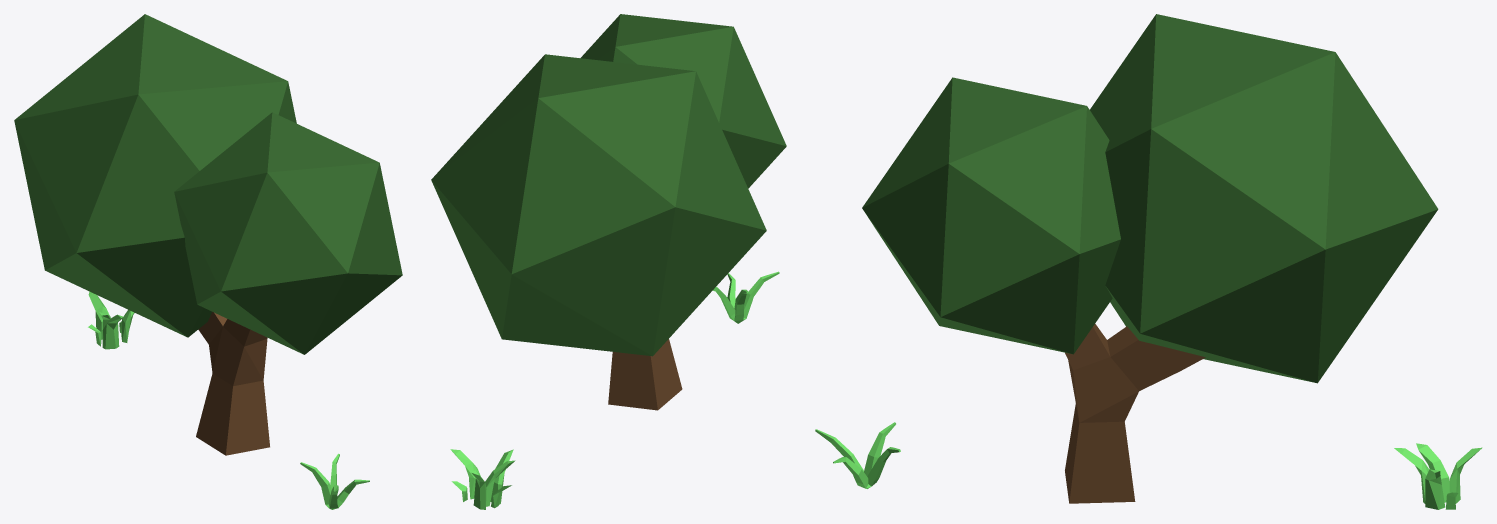
Rendered from pasto.fbx.
3 renders of one model, left to right at view 1: azimuth 30°, elevation 25°; view 2: azimuth 150°, elevation 25°; view 3: azimuth 270°, elevation 25°, orthographic. The views are drawn at different scales.
Parts seen in each view (by area): view 1: Icosphere, Icosphere.001, Cube.001, yuyo 2, Yuyo.1; view 2: Icosphere, Icosphere.001, Cube.001, yuyo 2, Yuyo.1; view 3: Icosphere, Icosphere.001, Cube.001, yuyo 2, Yuyo.1.
Part boxes in pixels (left/top/right/bottom): Icosphere: left=14, top=14, right=296, bottom=337; Icosphere.001: left=174, top=112, right=402, bottom=354; Cube.001: left=196, top=312, right=269, bottom=455; yuyo 2: left=88, top=291, right=134, bottom=349; Yuyo.1: left=300, top=453, right=369, bottom=509; Icosphere: left=431, top=54, right=766, bottom=356; Icosphere.001: left=580, top=14, right=786, bottom=188; Cube.001: left=608, top=339, right=682, bottom=410; yuyo 2: left=450, top=449, right=515, bottom=509; Yuyo.1: left=713, top=271, right=779, bottom=323; Icosphere: left=1090, top=14, right=1438, bottom=383; Icosphere.001: left=862, top=77, right=1120, bottom=354; Cube.001: left=1065, top=324, right=1205, bottom=503; yuyo 2: left=1394, top=443, right=1482, bottom=509; Yuyo.1: left=815, top=422, right=900, bottom=488.
Bounding box in the file's own units: 678 × 933 × 1264.
